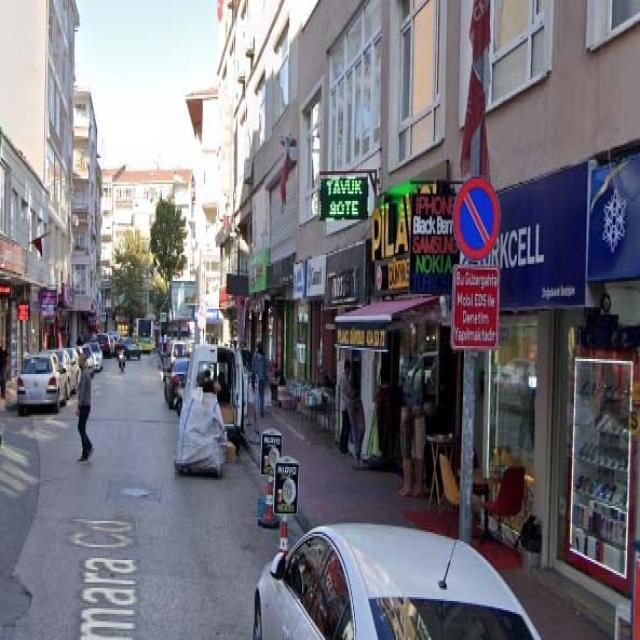parkyasak: (452, 178, 499, 260)
